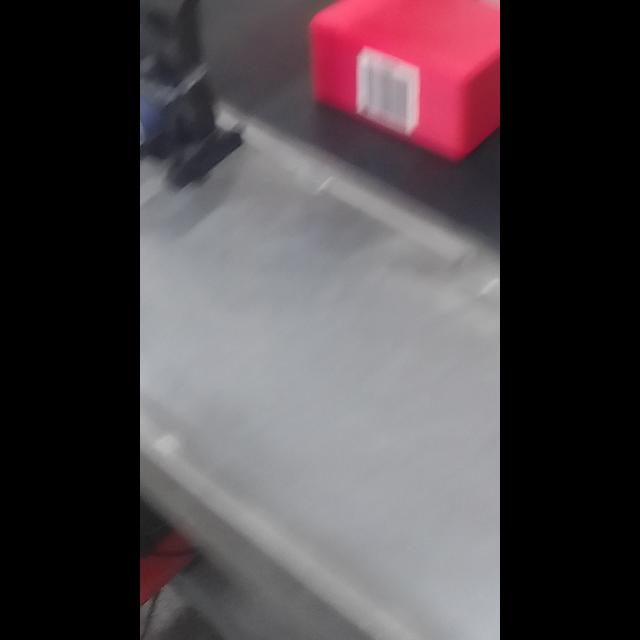redBox: (290, 0, 500, 174)
